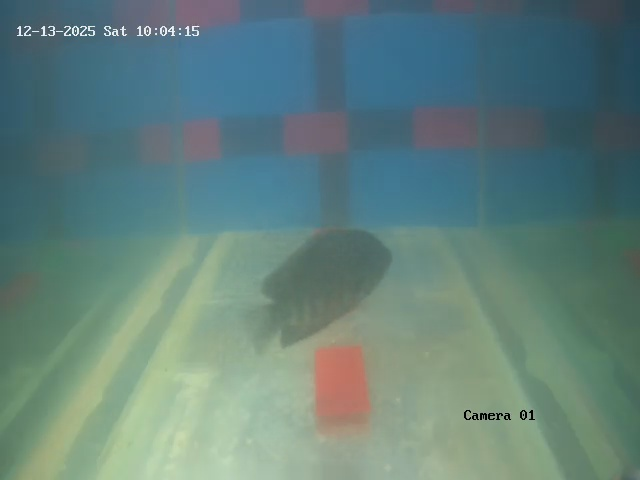fish: (266, 204, 396, 361)
